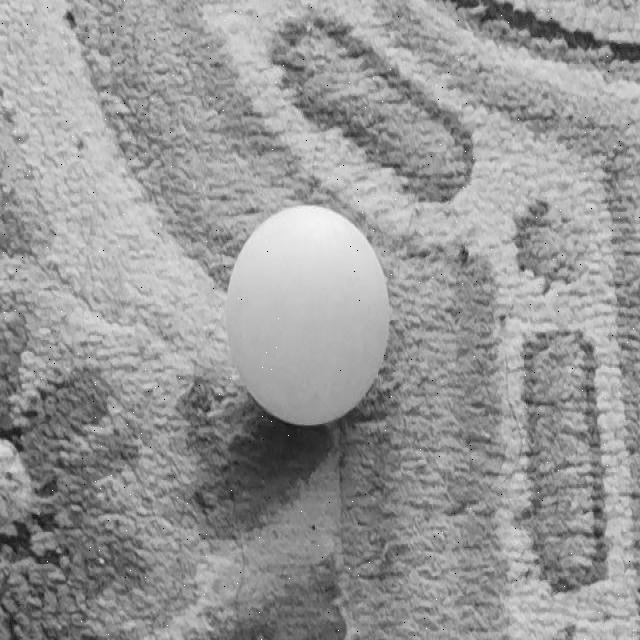ping-pong-ball: (226, 207, 390, 427)
